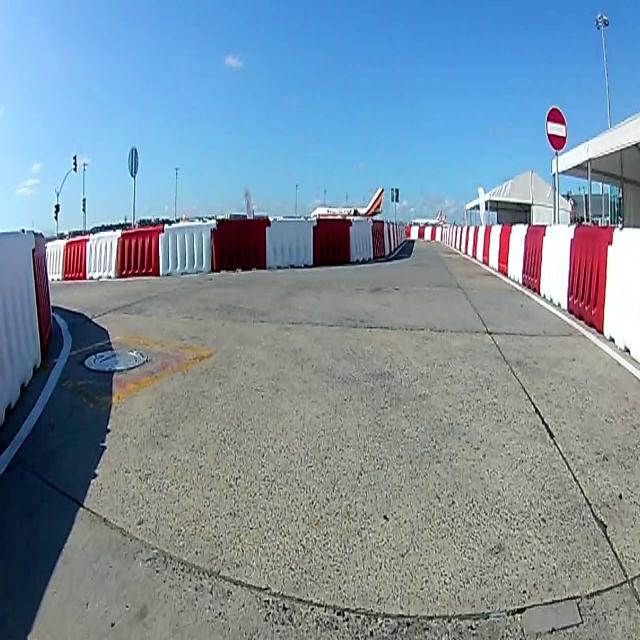girisyok: (546, 106, 568, 152)
